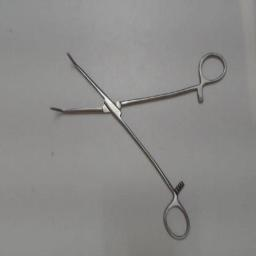Lahey Forceps: (46, 46, 230, 244)
